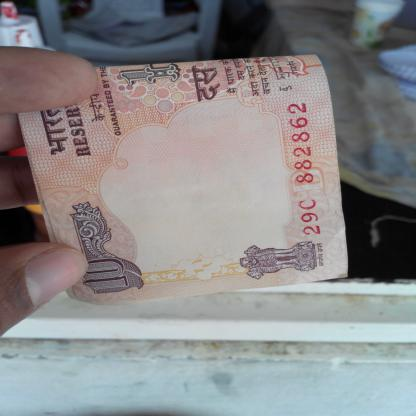Old10Front: (15, 52, 352, 306)
